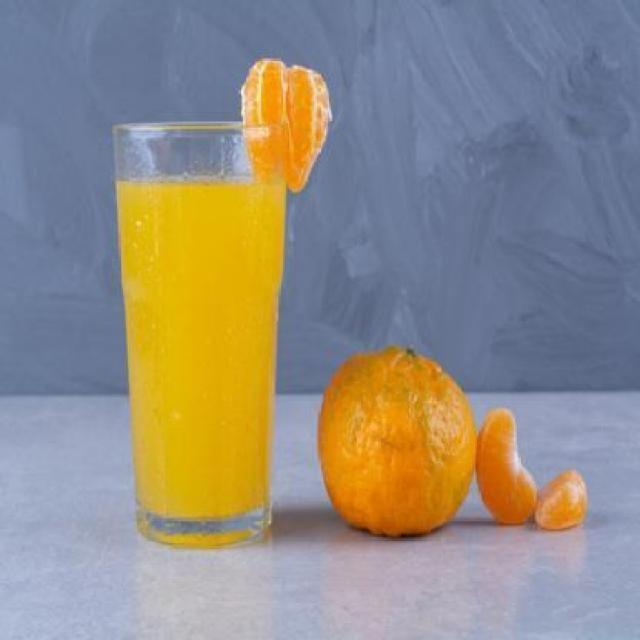Jeruk Sudah Matang: (319, 350, 481, 539)
